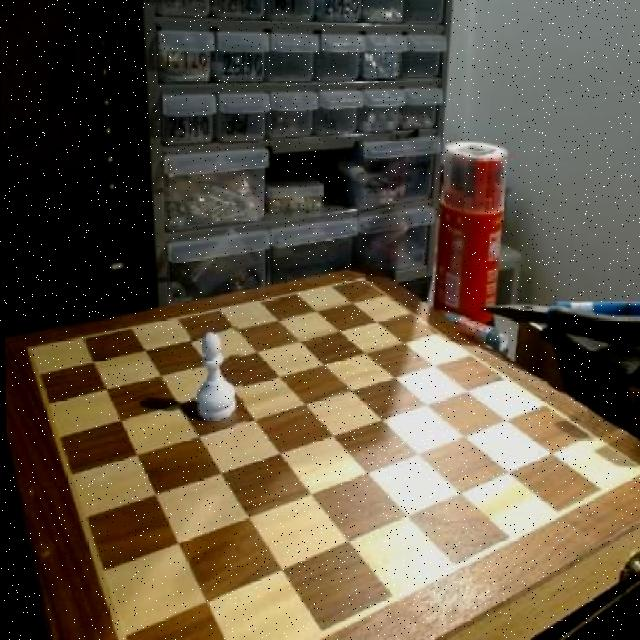white-knight: (190, 326, 243, 429)
